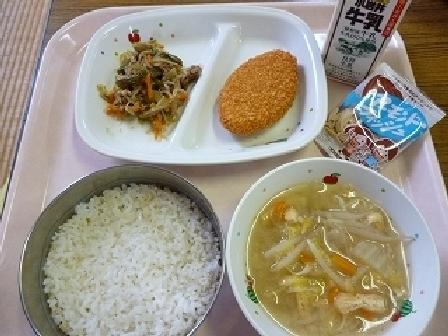Milk: (315, 0, 417, 85)
Rice: (23, 167, 232, 330)
Soups: (105, 34, 199, 134)
cutlet: (216, 40, 311, 143)
vegetable soup: (233, 166, 439, 332)
